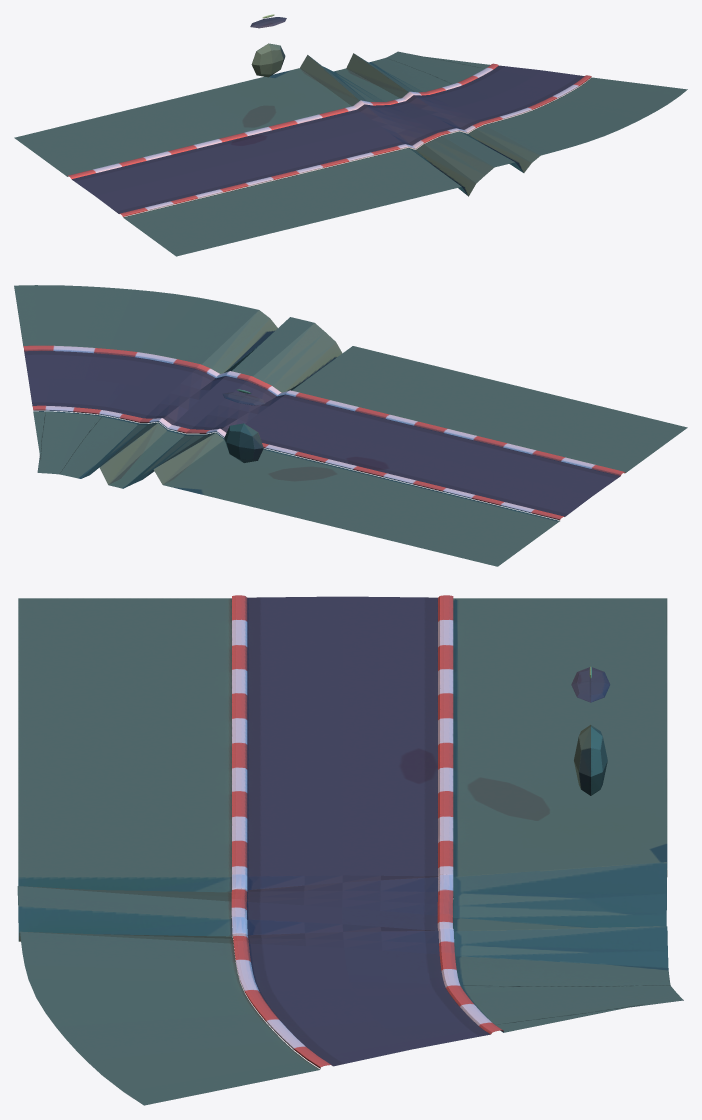
File: baked-spike.glb
The picture shows the model from 3 angles, top to bottom: view 1: azimuth 30°, elevation 25°; view 2: azimuth 150°, elevation 25°; view 3: azimuth 270°, elevation 25°; orthographic projection. The views are drawn at different scales.
Visible parts, largest first — view 1: baked-spike; view 2: baked-spike; view 3: baked-spike.
Part boxes in pixels (x1,y1,x2,y2): baked-spike: [14, 14, 687, 256]; baked-spike: [14, 285, 687, 566]; baked-spike: [17, 595, 683, 1105].
Size of the model in its own units: 368 by 58.71 by 196.
1 material, 1 textured.
